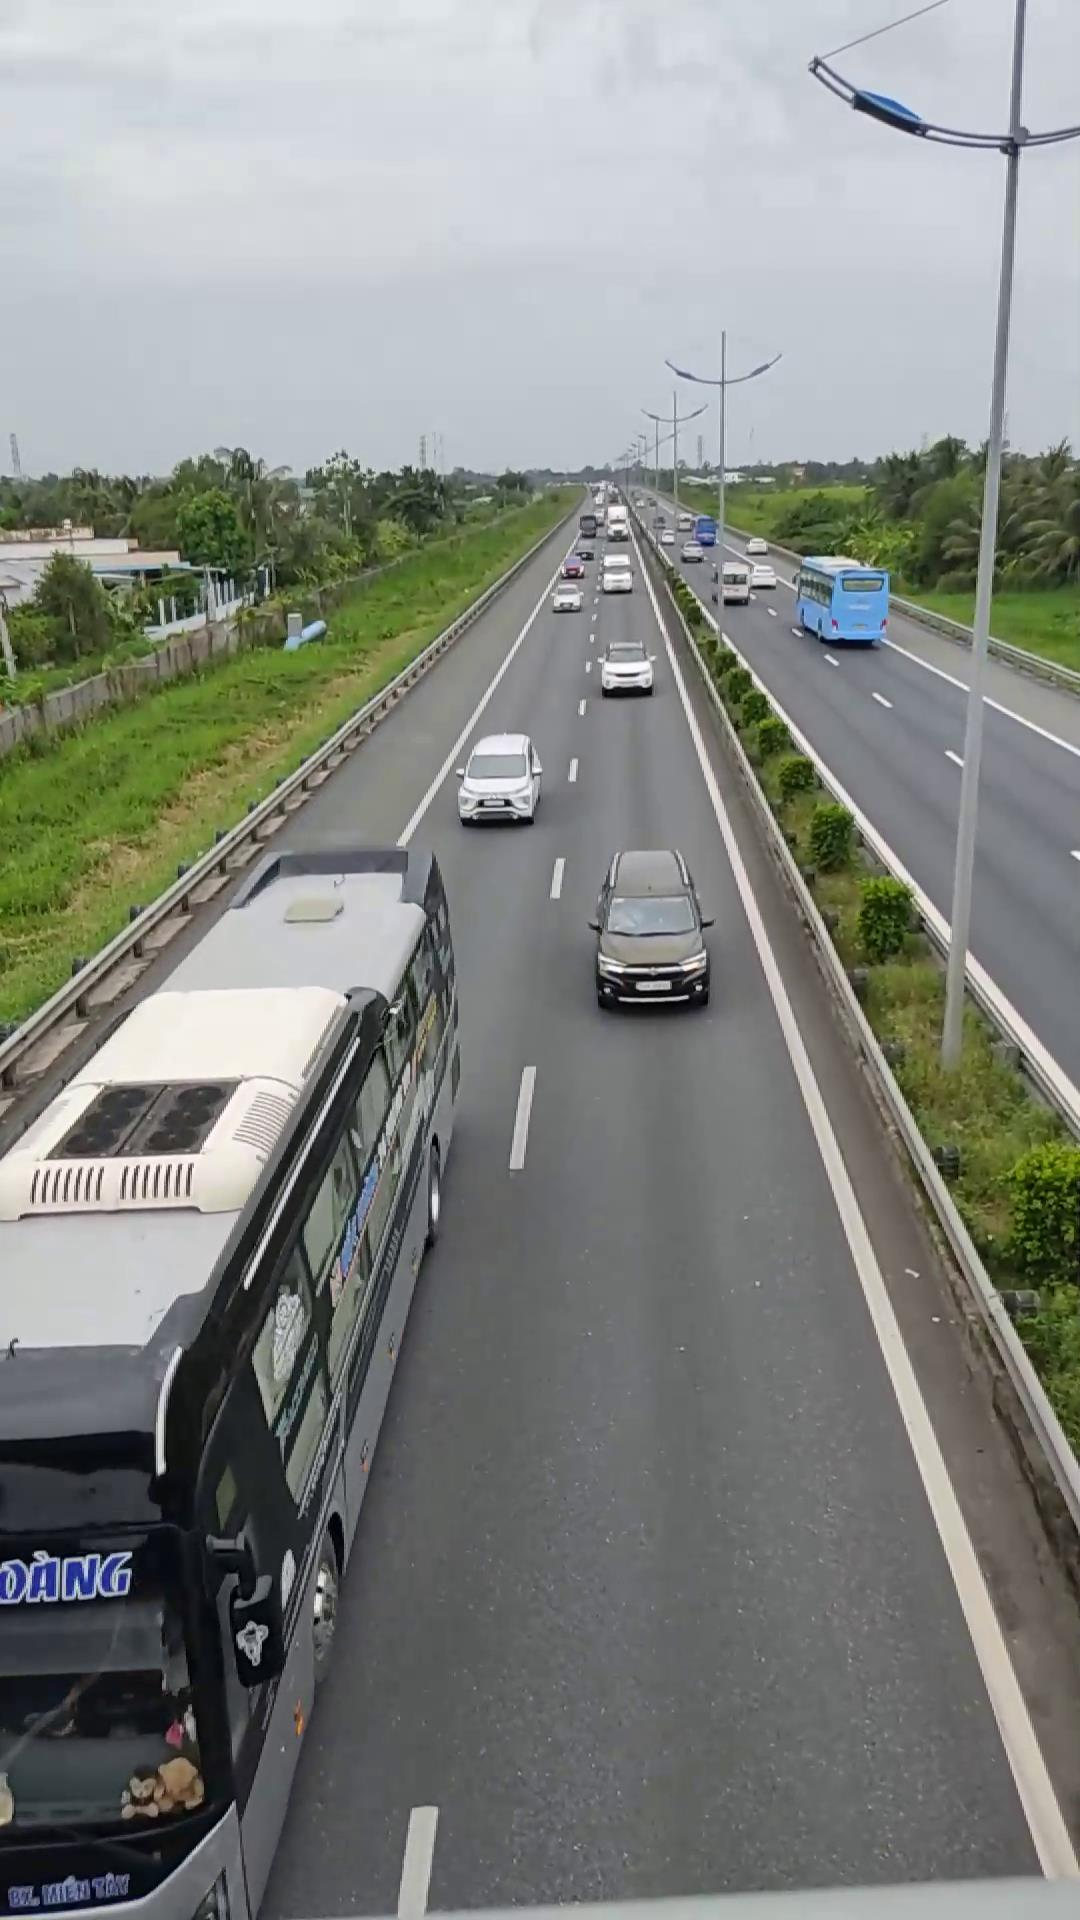bus: (6, 844, 473, 1911)
car: (588, 848, 713, 1009), (455, 732, 544, 824)
